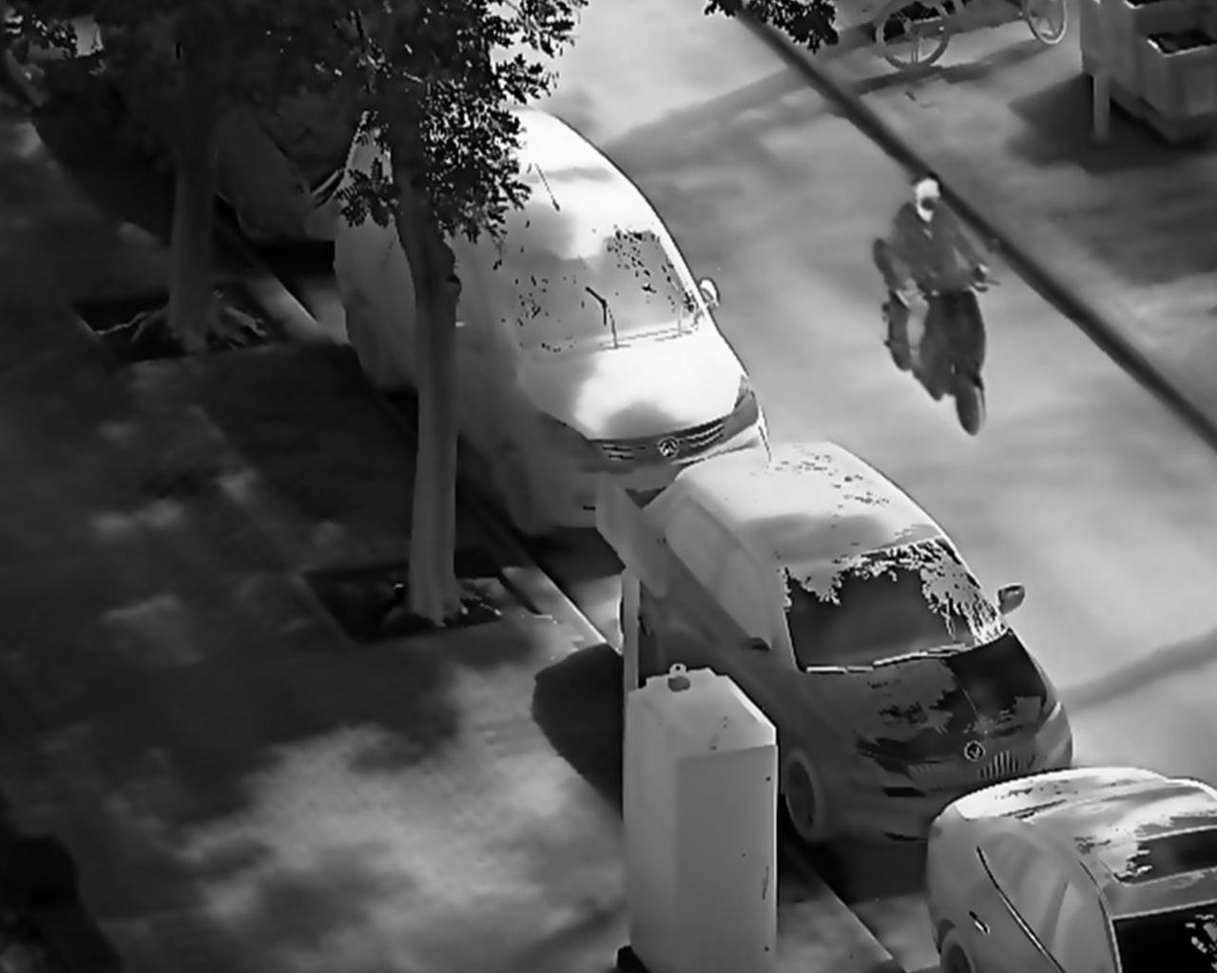person: (883, 171, 995, 372)
